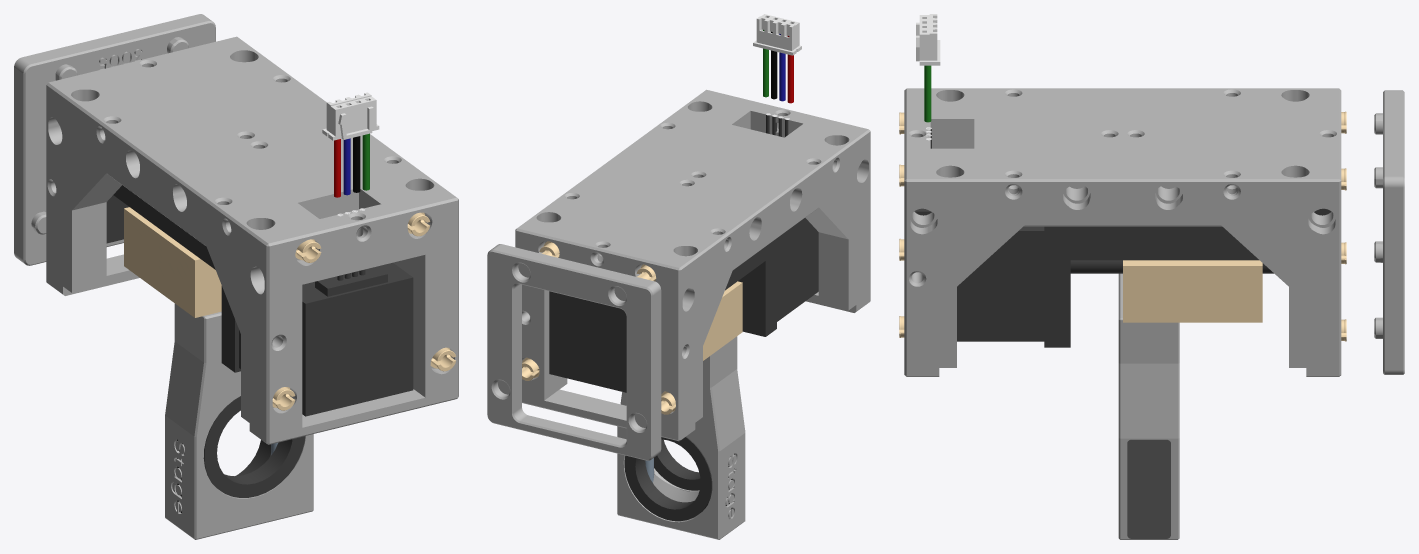
Rendered from ASS_-_3002_-_CASAUTSTGR22_-_A.glb.
3 renders of one model, left to right at view 1: azimuth 30°, elevation 25°; view 2: azimuth 150°, elevation 25°; view 3: azimuth 270°, elevation 25°, orthographic. The views are drawn at different scales.
Visible parts, largest first — view 1: PRT - 3016 - CASAUTSTG - A:1, BUY - Electric linear unit - CTM28H-0601-20 --- Base with bo, PRT - 3002 - OBJMNT - A:1, PRT - 3005 - ADDPUZPCE:1, BUY - Electric linear unit - CTM28H-0601-20 --- Pos. unit:1, BUY - Adapter - SM1 thread to RMS thread:1, BUY - JST - Connector - XHP-4:1; view 2: PRT - 3016 - CASAUTSTG - A:1, PRT - 3005 - ADDPUZPCE:1, BUY - Electric linear unit - CTM28H-0601-20 --- Base with bo, PRT - 3002 - OBJMNT - A:1, BUY - Adapter - SM1 thread to RMS thread:2, BUY - Electric linear unit - CTM28H-0601-20 --- Pos. unit:1, BUY - JST - Connector - XHP-4:1, BUY - Adapter - SM1 thread to RMS thread:1; view 3: PRT - 3016 - CASAUTSTG - A:1, BUY - Electric linear unit - CTM28H-0601-20 --- Base with bo, PRT - 3002 - OBJMNT - A:1, BUY - Electric linear unit - CTM28H-0601-20 --- Pos. unit:1, PRT - 3005 - ADDPUZPCE:1, PRT - 5005 - STKCAUHNDCRU25x10:2, BUY - JST - Connector - XHP-4:1.
Part boxes in pixels (x1=…): PRT - 3016 - CASAUTSTG - A:1: x1=46, y1=36, x2=458, y2=444; BUY - Electric linear unit - CTM28H-0601-20 --- Base with bo: x1=106, y1=185, x2=413, y2=416; PRT - 3002 - OBJMNT - A:1: x1=165, y1=303, x2=313, y2=539; PRT - 3005 - ADDPUZPCE:1: x1=14, y1=14, x2=215, y2=265; BUY - Electric linear unit - CTM28H-0601-20 --- Pos. unit:1: x1=124, y1=207, x2=221, y2=317; BUY - Adapter - SM1 thread to RMS thread:1: x1=203, y1=396, x2=304, y2=497; BUY - JST - Connector - XHP-4:1: x1=322, y1=92, x2=379, y2=140; PRT - 3016 - CASAUTSTG - A:1: x1=515, y1=89, x2=870, y2=441; PRT - 3005 - ADDPUZPCE:1: x1=487, y1=244, x2=661, y2=460; BUY - Electric linear unit - CTM28H-0601-20 --- Base with bo: x1=549, y1=113, x2=818, y2=392; PRT - 3002 - OBJMNT - A:1: x1=617, y1=336, x2=745, y2=539; BUY - Adapter - SM1 thread to RMS thread:2: x1=624, y1=437, x2=712, y2=521; BUY - Electric linear unit - CTM28H-0601-20 --- Pos. unit:1: x1=703, y1=281, x2=742, y2=360; BUY - JST - Connector - XHP-4:1: x1=753, y1=14, x2=801, y2=55; BUY - Adapter - SM1 thread to RMS thread:1: x1=654, y1=439, x2=700, y2=490; PRT - 3016 - CASAUTSTG - A:1: x1=904, y1=88, x2=1341, y2=376; BUY - Electric linear unit - CTM28H-0601-20 --- Base with bo: x1=914, y1=127, x2=1331, y2=347; PRT - 3002 - OBJMNT - A:1: x1=1118, y1=273, x2=1179, y2=539; BUY - Electric linear unit - CTM28H-0601-20 --- Pos. unit:1: x1=1123, y1=260, x2=1262, y2=322; PRT - 3005 - ADDPUZPCE:1: x1=1374, y1=90, x2=1404, y2=374; PRT - 5005 - STKCAUHNDCRU25x10:2: x1=1127, y1=439, x2=1170, y2=538; BUY - JST - Connector - XHP-4:1: x1=916, y1=14, x2=940, y2=65.
Bounding box in the file's own units: 50 × 123 × 116.
